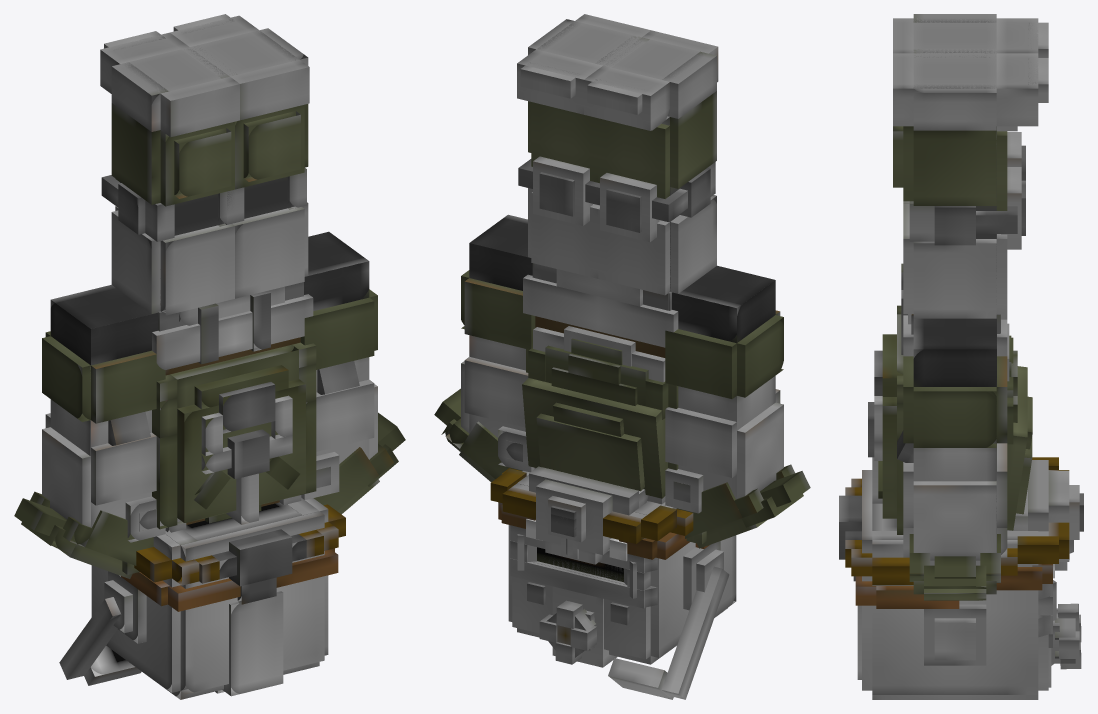
File: t51_armor.obj
3 renders of one model, left to right at view 1: azimuth 30°, elevation 25°; view 2: azimuth 150°, elevation 25°; view 3: azimuth 270°, elevation 25°, orthographic. The views are drawn at different scales.
Parts seen in each view (by area): view 1: Head, Body, RightArm, RightLeg, LeftArm, LeftLeg, RightBoot, LeftBoot; view 2: Head, RightArm, Body, RightLeg, LeftArm, LeftLeg, RightBoot, LeftBoot; view 3: Head, LeftArm, LeftLeg, LeftBoot, Body, RightBoot, RightLeg.
Boxes of the visible parts, x1,y1,x2,y2 form: Head: (59,498,345,699); Body: (152,282,316,532); RightArm: (14,285,165,578); RightLeg: (101,103,237,315); LeftArm: (300,231,405,514); LeftLeg: (225,104,308,298); RightBoot: (100,31,239,137); LeftBoot: (170,14,309,120); Head: (490,466,736,699); RightArm: (665,265,810,548); Body: (522,263,678,504); RightLeg: (598,91,716,295); LeftArm: (434,214,535,482); LeftLeg: (518,101,599,278); RightBoot: (584,30,718,130); LeftBoot: (517,14,650,114); Head: (839,457,1083,699); LeftArm: (897,315,1007,600); LeftLeg: (893,126,1025,318); LeftBoot: (893,49,1048,131); Body: (868,263,1032,534); RightBoot: (893,14,1048,57); RightLeg: (903,132,1025,203).
Bounding box in the file's own units: 21.36 × 34.5 × 11.8.
